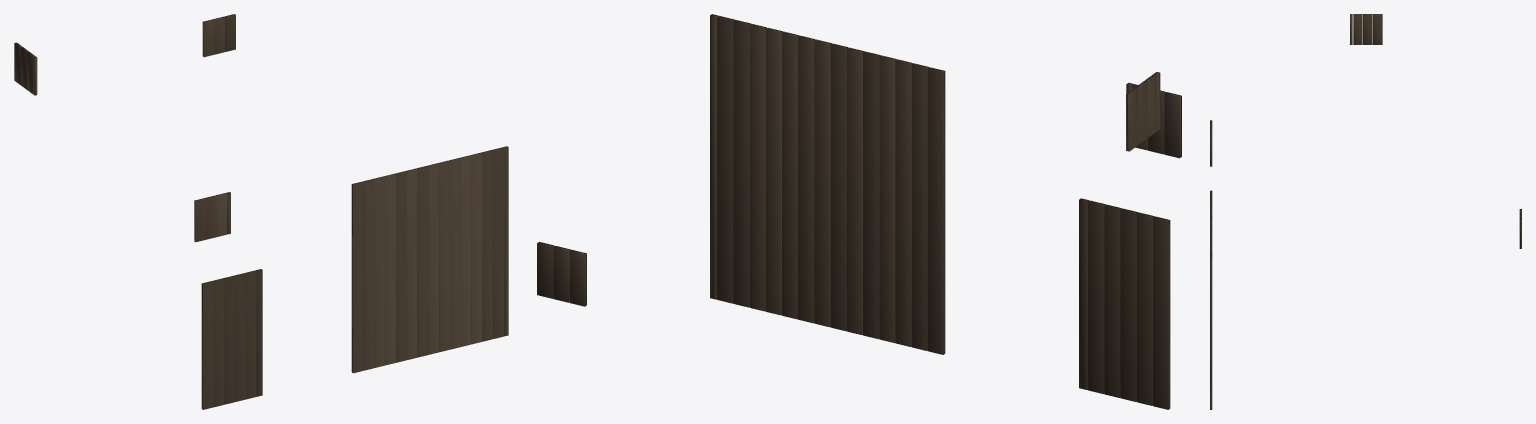
File: SM_BarnWood_11.glb
3 renders of one model, left to right at view 1: azimuth 30°, elevation 25°; view 2: azimuth 150°, elevation 25°; view 3: azimuth 270°, elevation 25°, orthographic. The views are drawn at different scales.
Visible parts, largest first — view 1: SM_BarnWood_11; view 2: SM_BarnWood_11; view 3: SM_BarnWood_11.
Boxes of the visible parts, x1,y1,x2,y2 form: SM_BarnWood_11: (14,14,508,409); SM_BarnWood_11: (537,14,1181,409); SM_BarnWood_11: (1210,14,1521,409).
Bounding box in the file's own units: 6.44 × 4.9 × 5.64.
